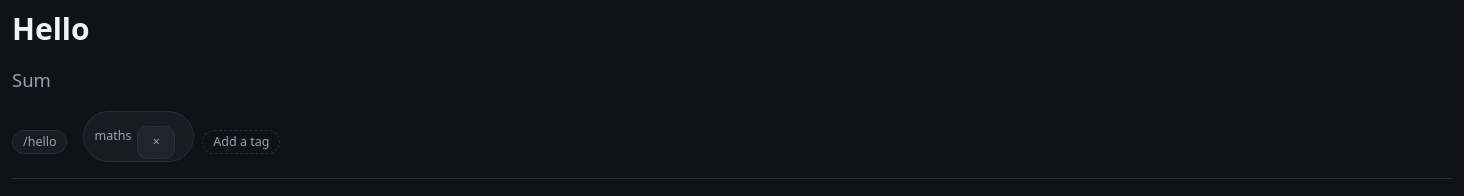
Test: the slug pill › shows the slug, turns into an input on a click and closes on Enter
Click the button "/hello" at {"x": 40, "y": 142}, box [12,130,68,154]
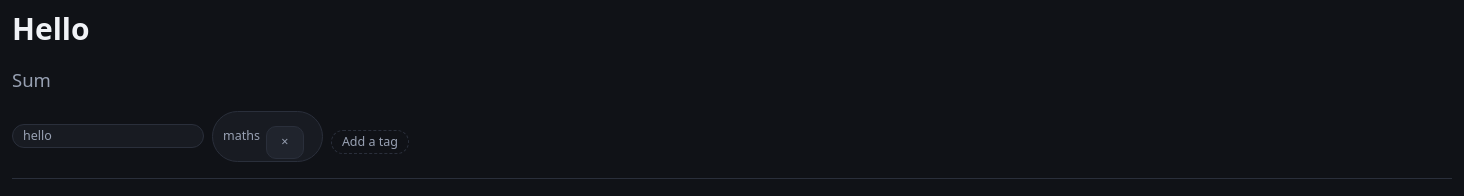
Replace the text in the field named "Slug" with "hello-2" at {"x": 108, "y": 136}, box [12,124,204,148]
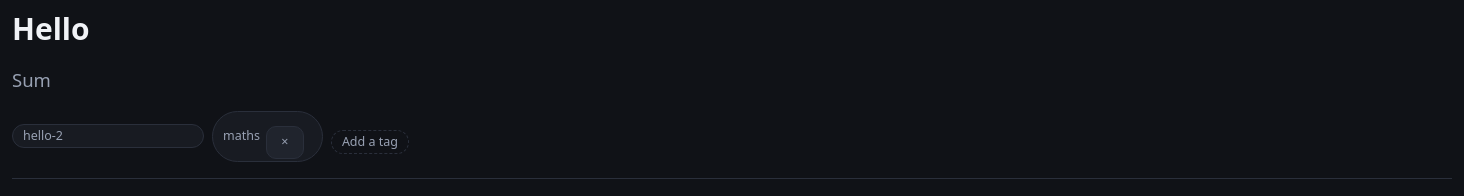
Press Enter in the field named "Slug", box [12,124,204,148]
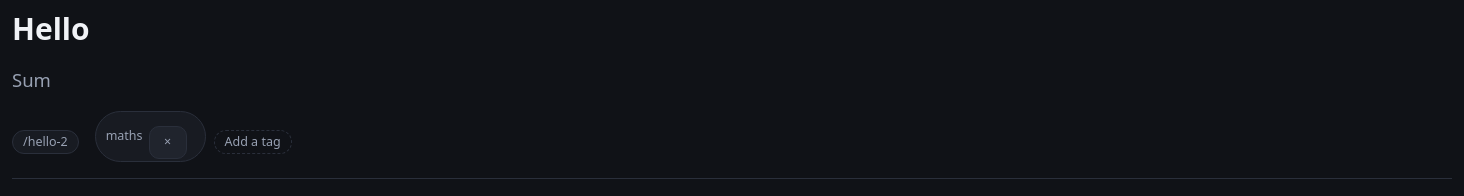
Expected: the field labelled "Slug" is gone
Expected: the button "/hello-2" is shown, [12,130,79,154]
